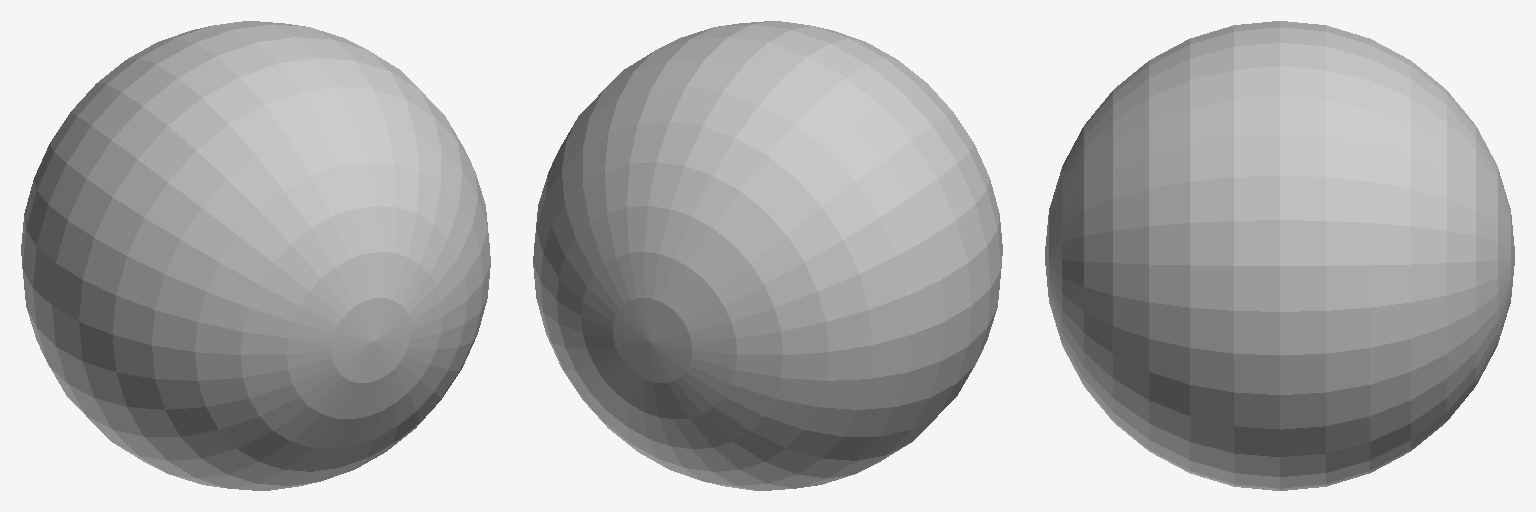
File: Skysphere.obj
3 views of the same model, side by side, from view 1: azimuth 30°, elevation 25°; view 2: azimuth 150°, elevation 25°; view 3: azimuth 270°, elevation 25° (orthographic).
Visible parts, largest first — view 1: 구체; view 2: 구체; view 3: 구체.
Part boxes in pixels (left/top/right/bottom): 구체: left=21, top=21, right=490, bottom=490; 구체: left=533, top=21, right=1002, bottom=490; 구체: left=1045, top=21, right=1514, bottom=490.
Bounding box in the file's own units: 763 × 763 × 763.